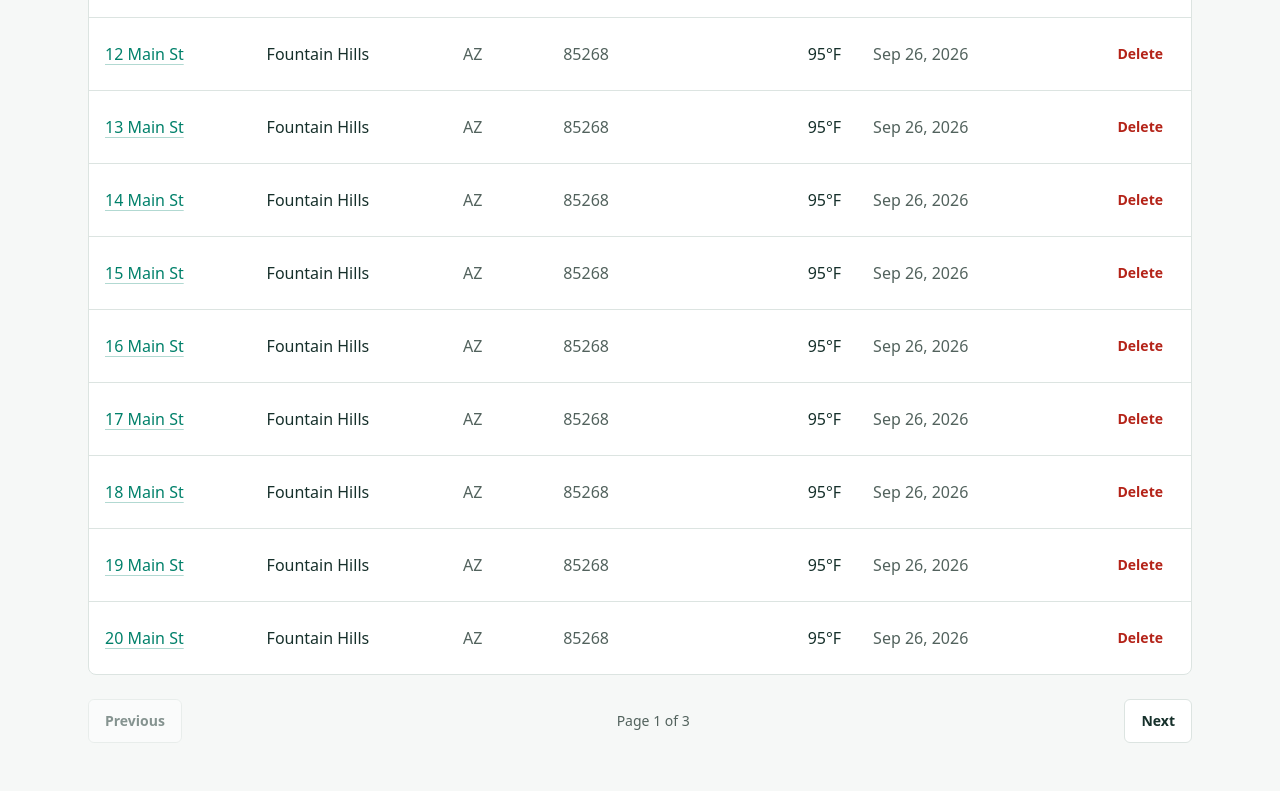
PropertyListPage › AC-W.3: pagination moves by one page of 20 and shows "Page X of Y"
(page scrolled)
Check: the text "Page 1 of 3" is shown, box [617,711,690,731]
Check: the button "Previous" is disabled, box [88,699,182,743]
Click the button "Next": x=1158, y=721 [1124,699,1192,743]
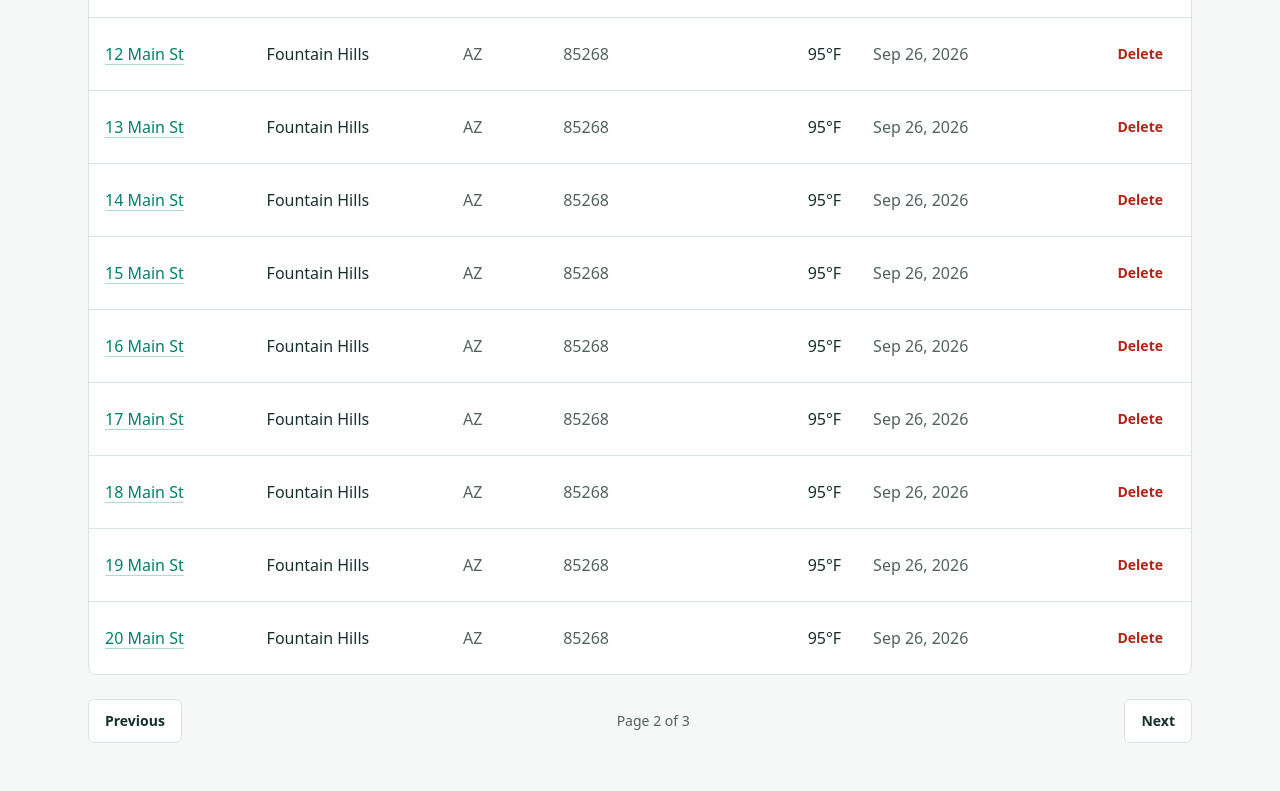
Check: the text "Page 2 of 3" is shown, box [617,711,690,731]
